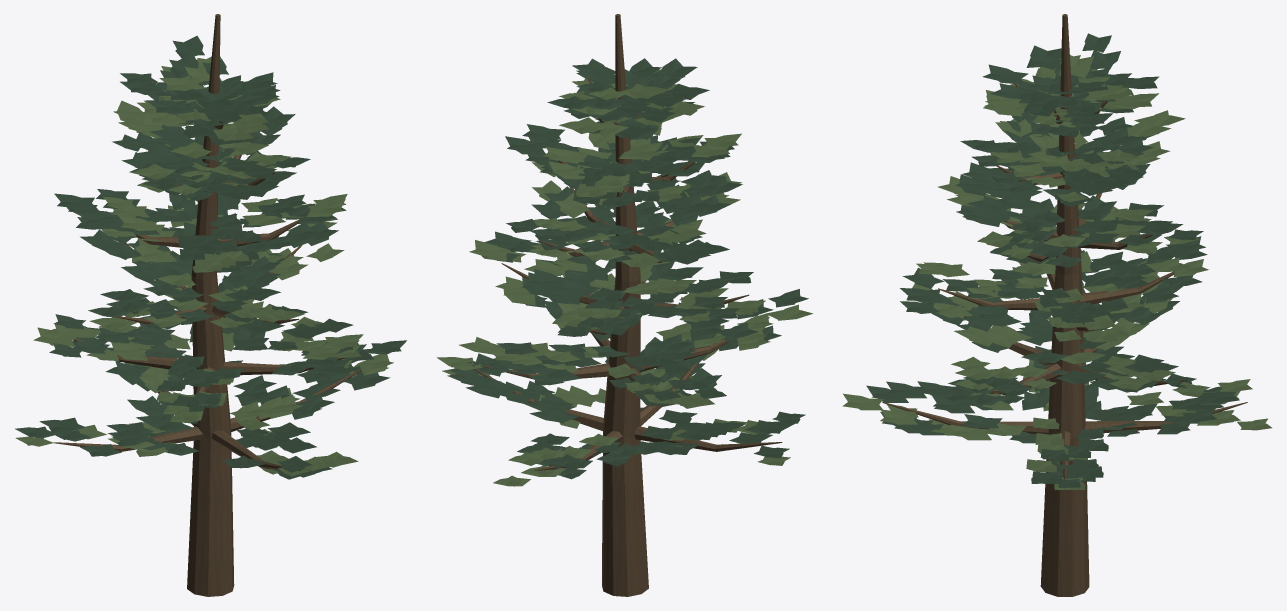
Rendered from NA_Pine_2.glb.
3 renders of one model, left to right at view 1: azimuth 30°, elevation 25°; view 2: azimuth 150°, elevation 25°; view 3: azimuth 270°, elevation 25°, orthographic.
Visible parts, largest first — view 1: NA_Pine_2; view 2: NA_Pine_2; view 3: NA_Pine_2.
Boxes of the visible parts, x1,y1,x2,y2 form: NA_Pine_2: (15, 14, 406, 596); NA_Pine_2: (437, 14, 812, 596); NA_Pine_2: (842, 14, 1271, 596).
Size of the model in its own units: 2.35 by 3.65 by 2.47.
3 materials, 1 textured.
